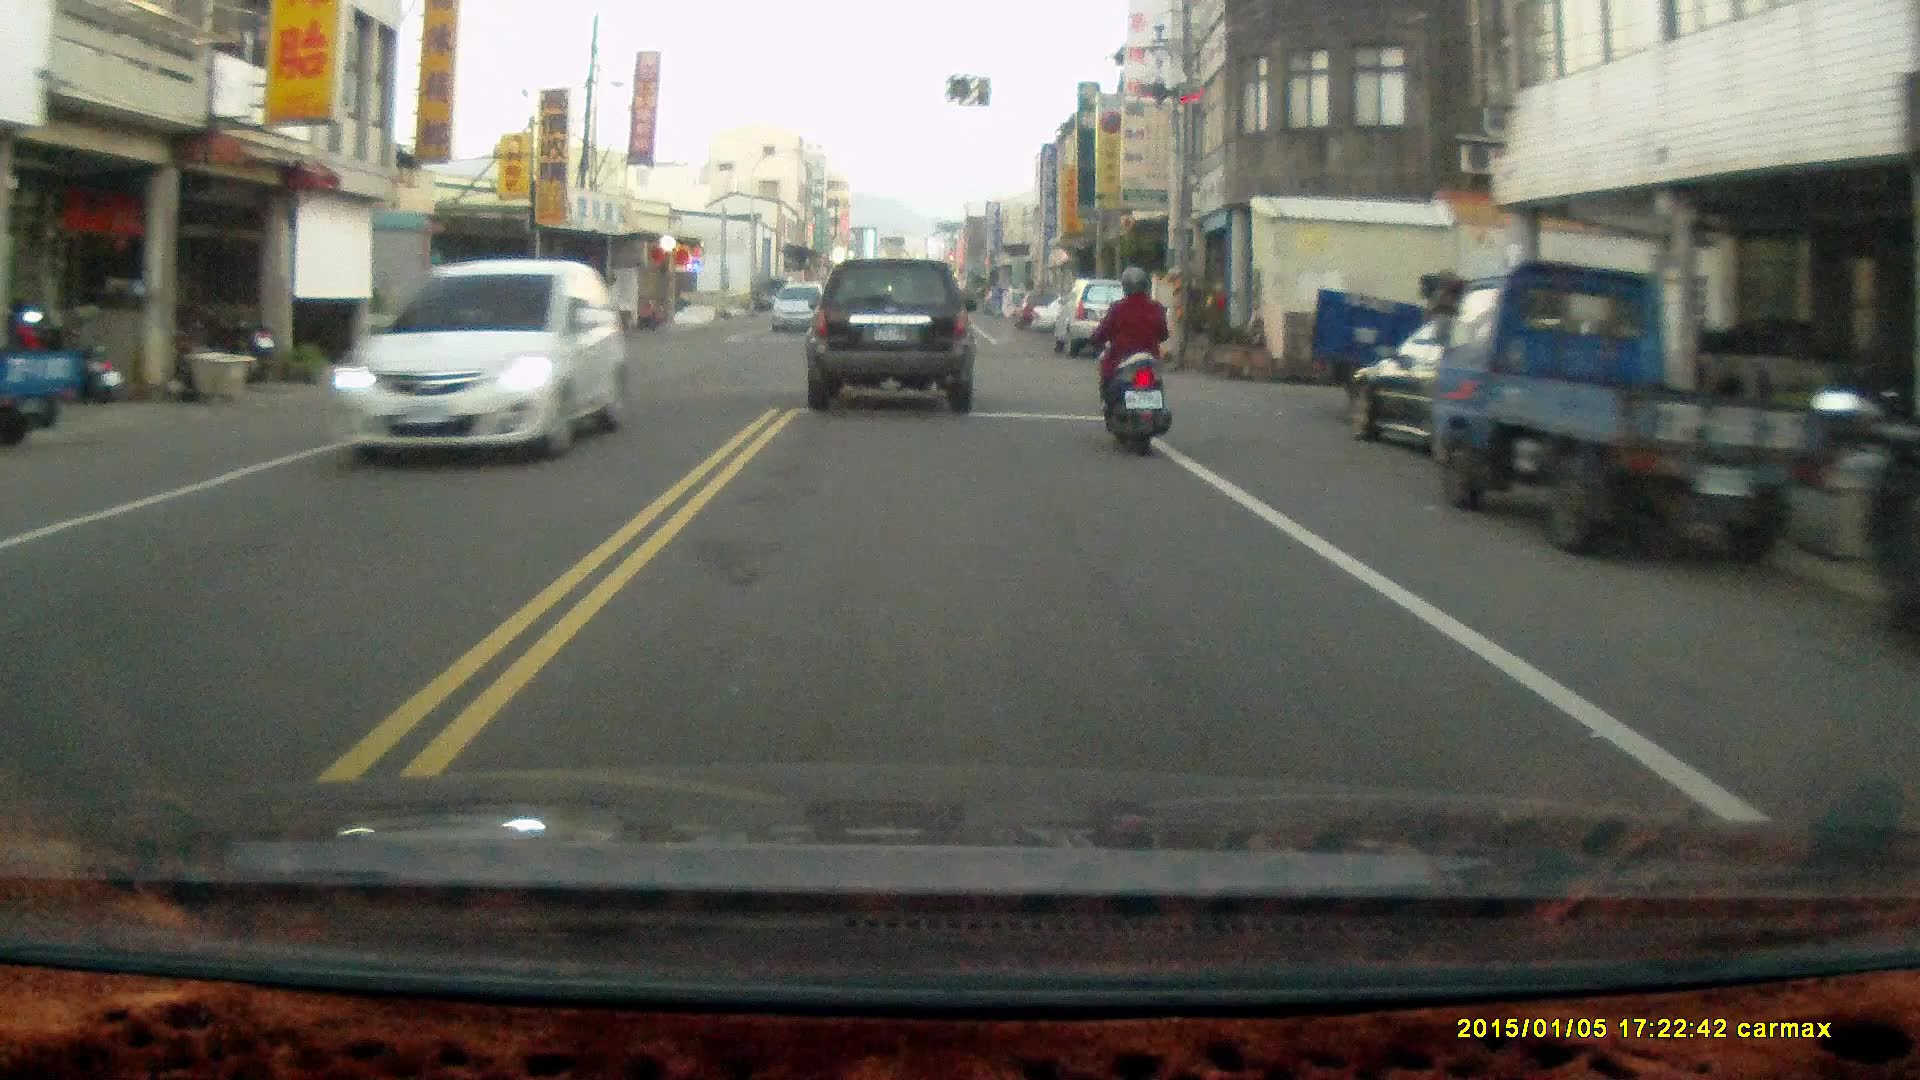rider: (1091, 266, 1172, 459)
vehicle: (1420, 256, 1840, 572), (329, 258, 629, 465), (1347, 312, 1611, 468), (1307, 278, 1554, 435), (805, 255, 984, 420), (1, 267, 89, 456), (1054, 276, 1151, 358)
